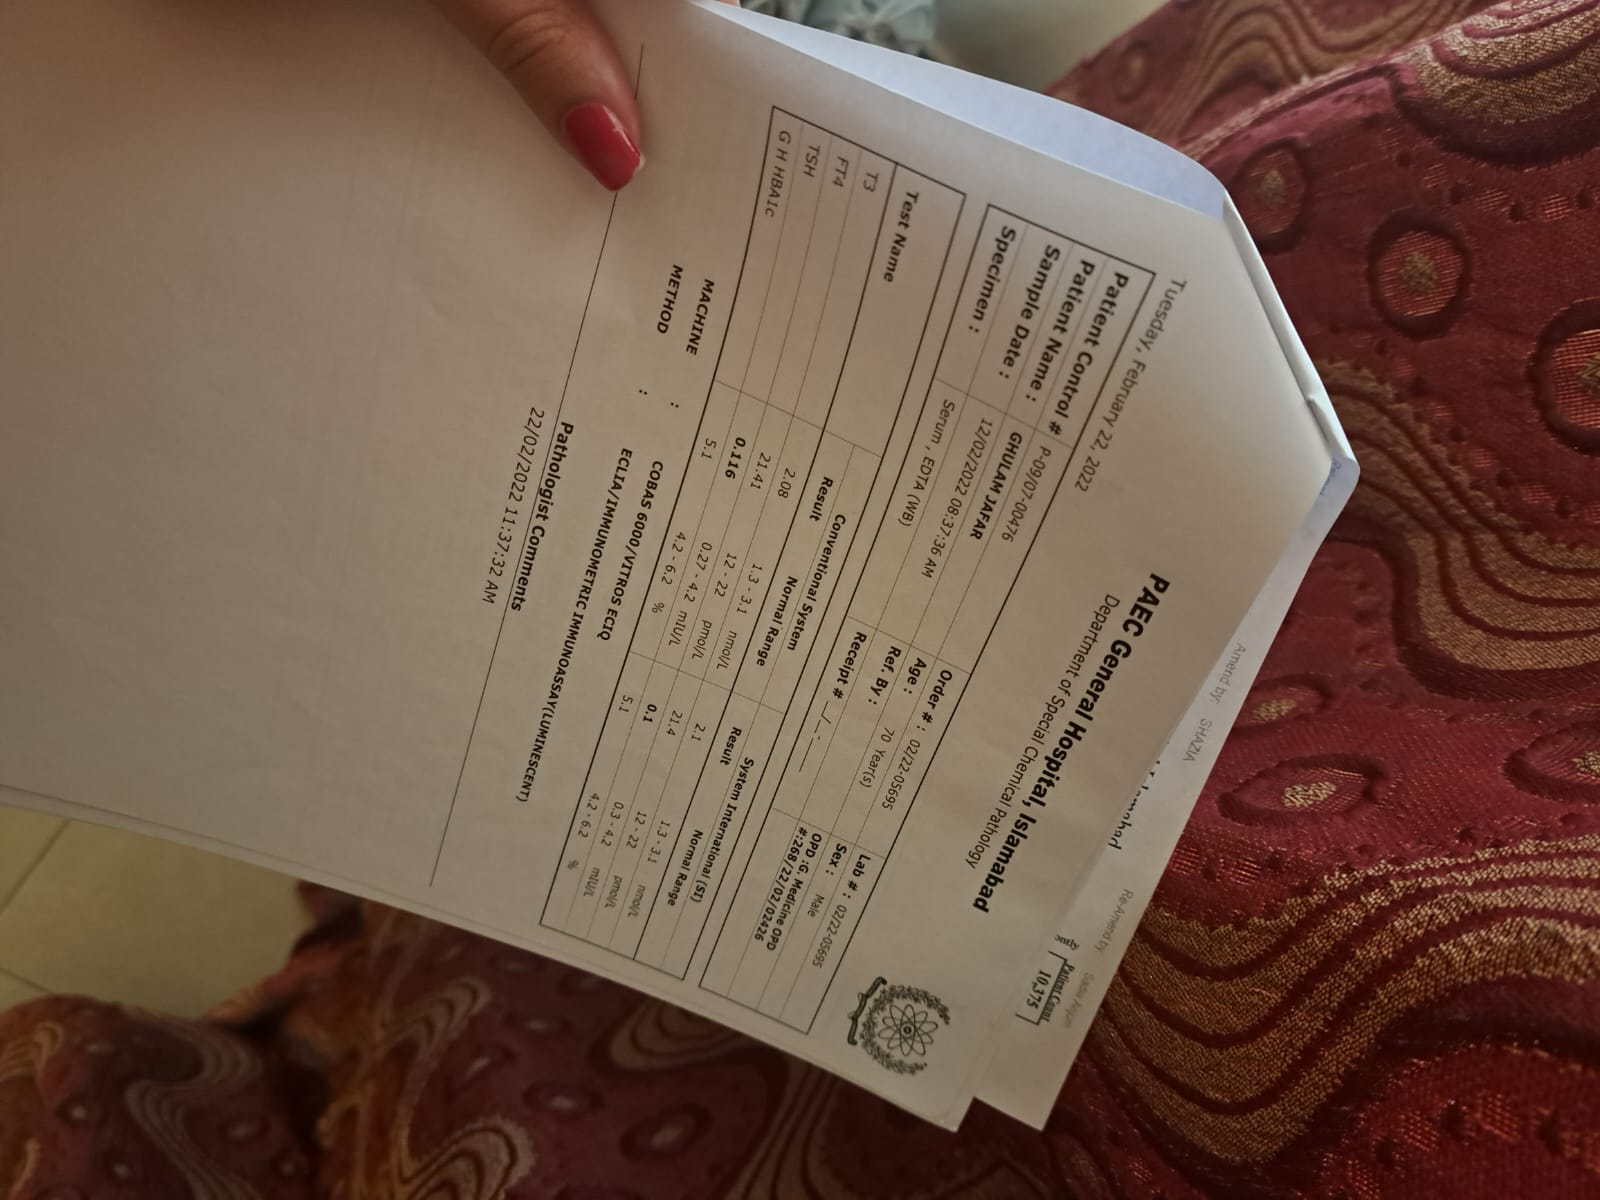report: (529, 100, 964, 982)
